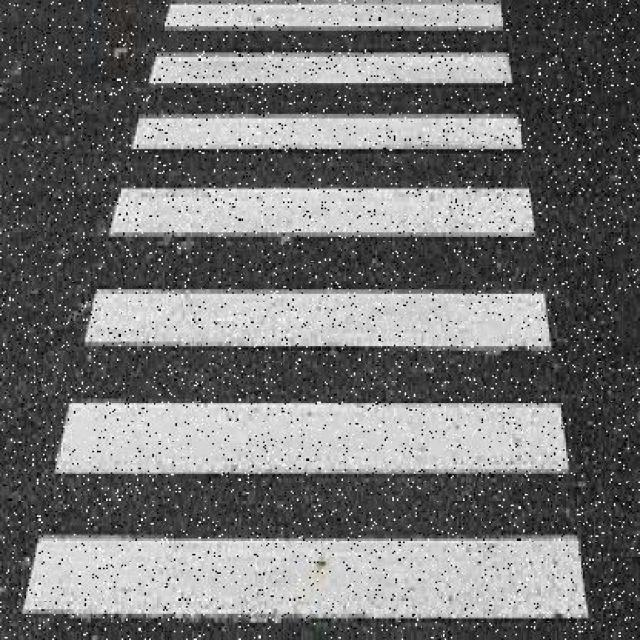crosswalk: (21, 0, 590, 620)
